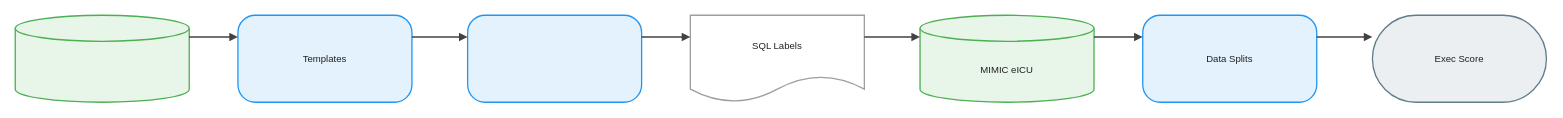
The diagram is 1563 pixels wide and 118 high, and some of its shapes have lost their labels. Each missing label, with the box of its shape:
Staff Poll: (14, 14, 189, 102)
Time Slots: (467, 14, 642, 102)
